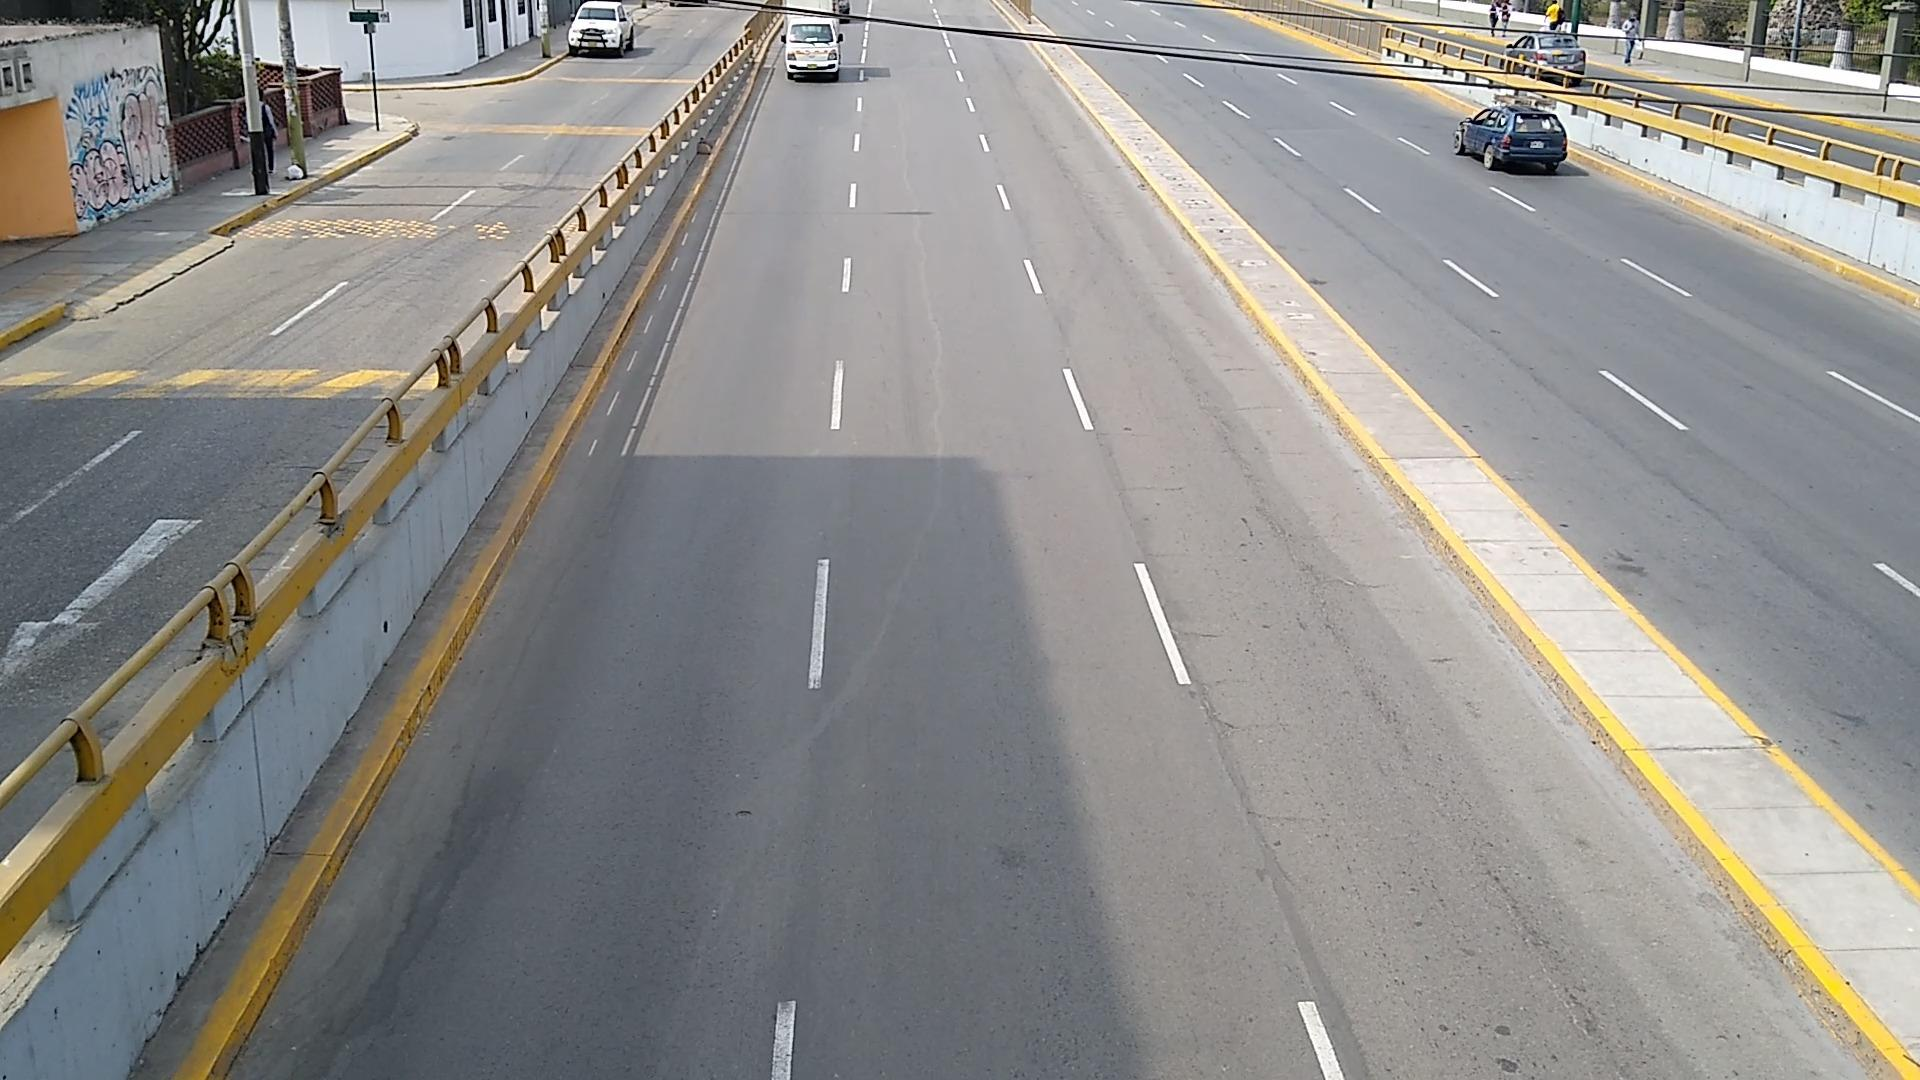car: (1455, 102, 1568, 173), (566, 0, 634, 54)
